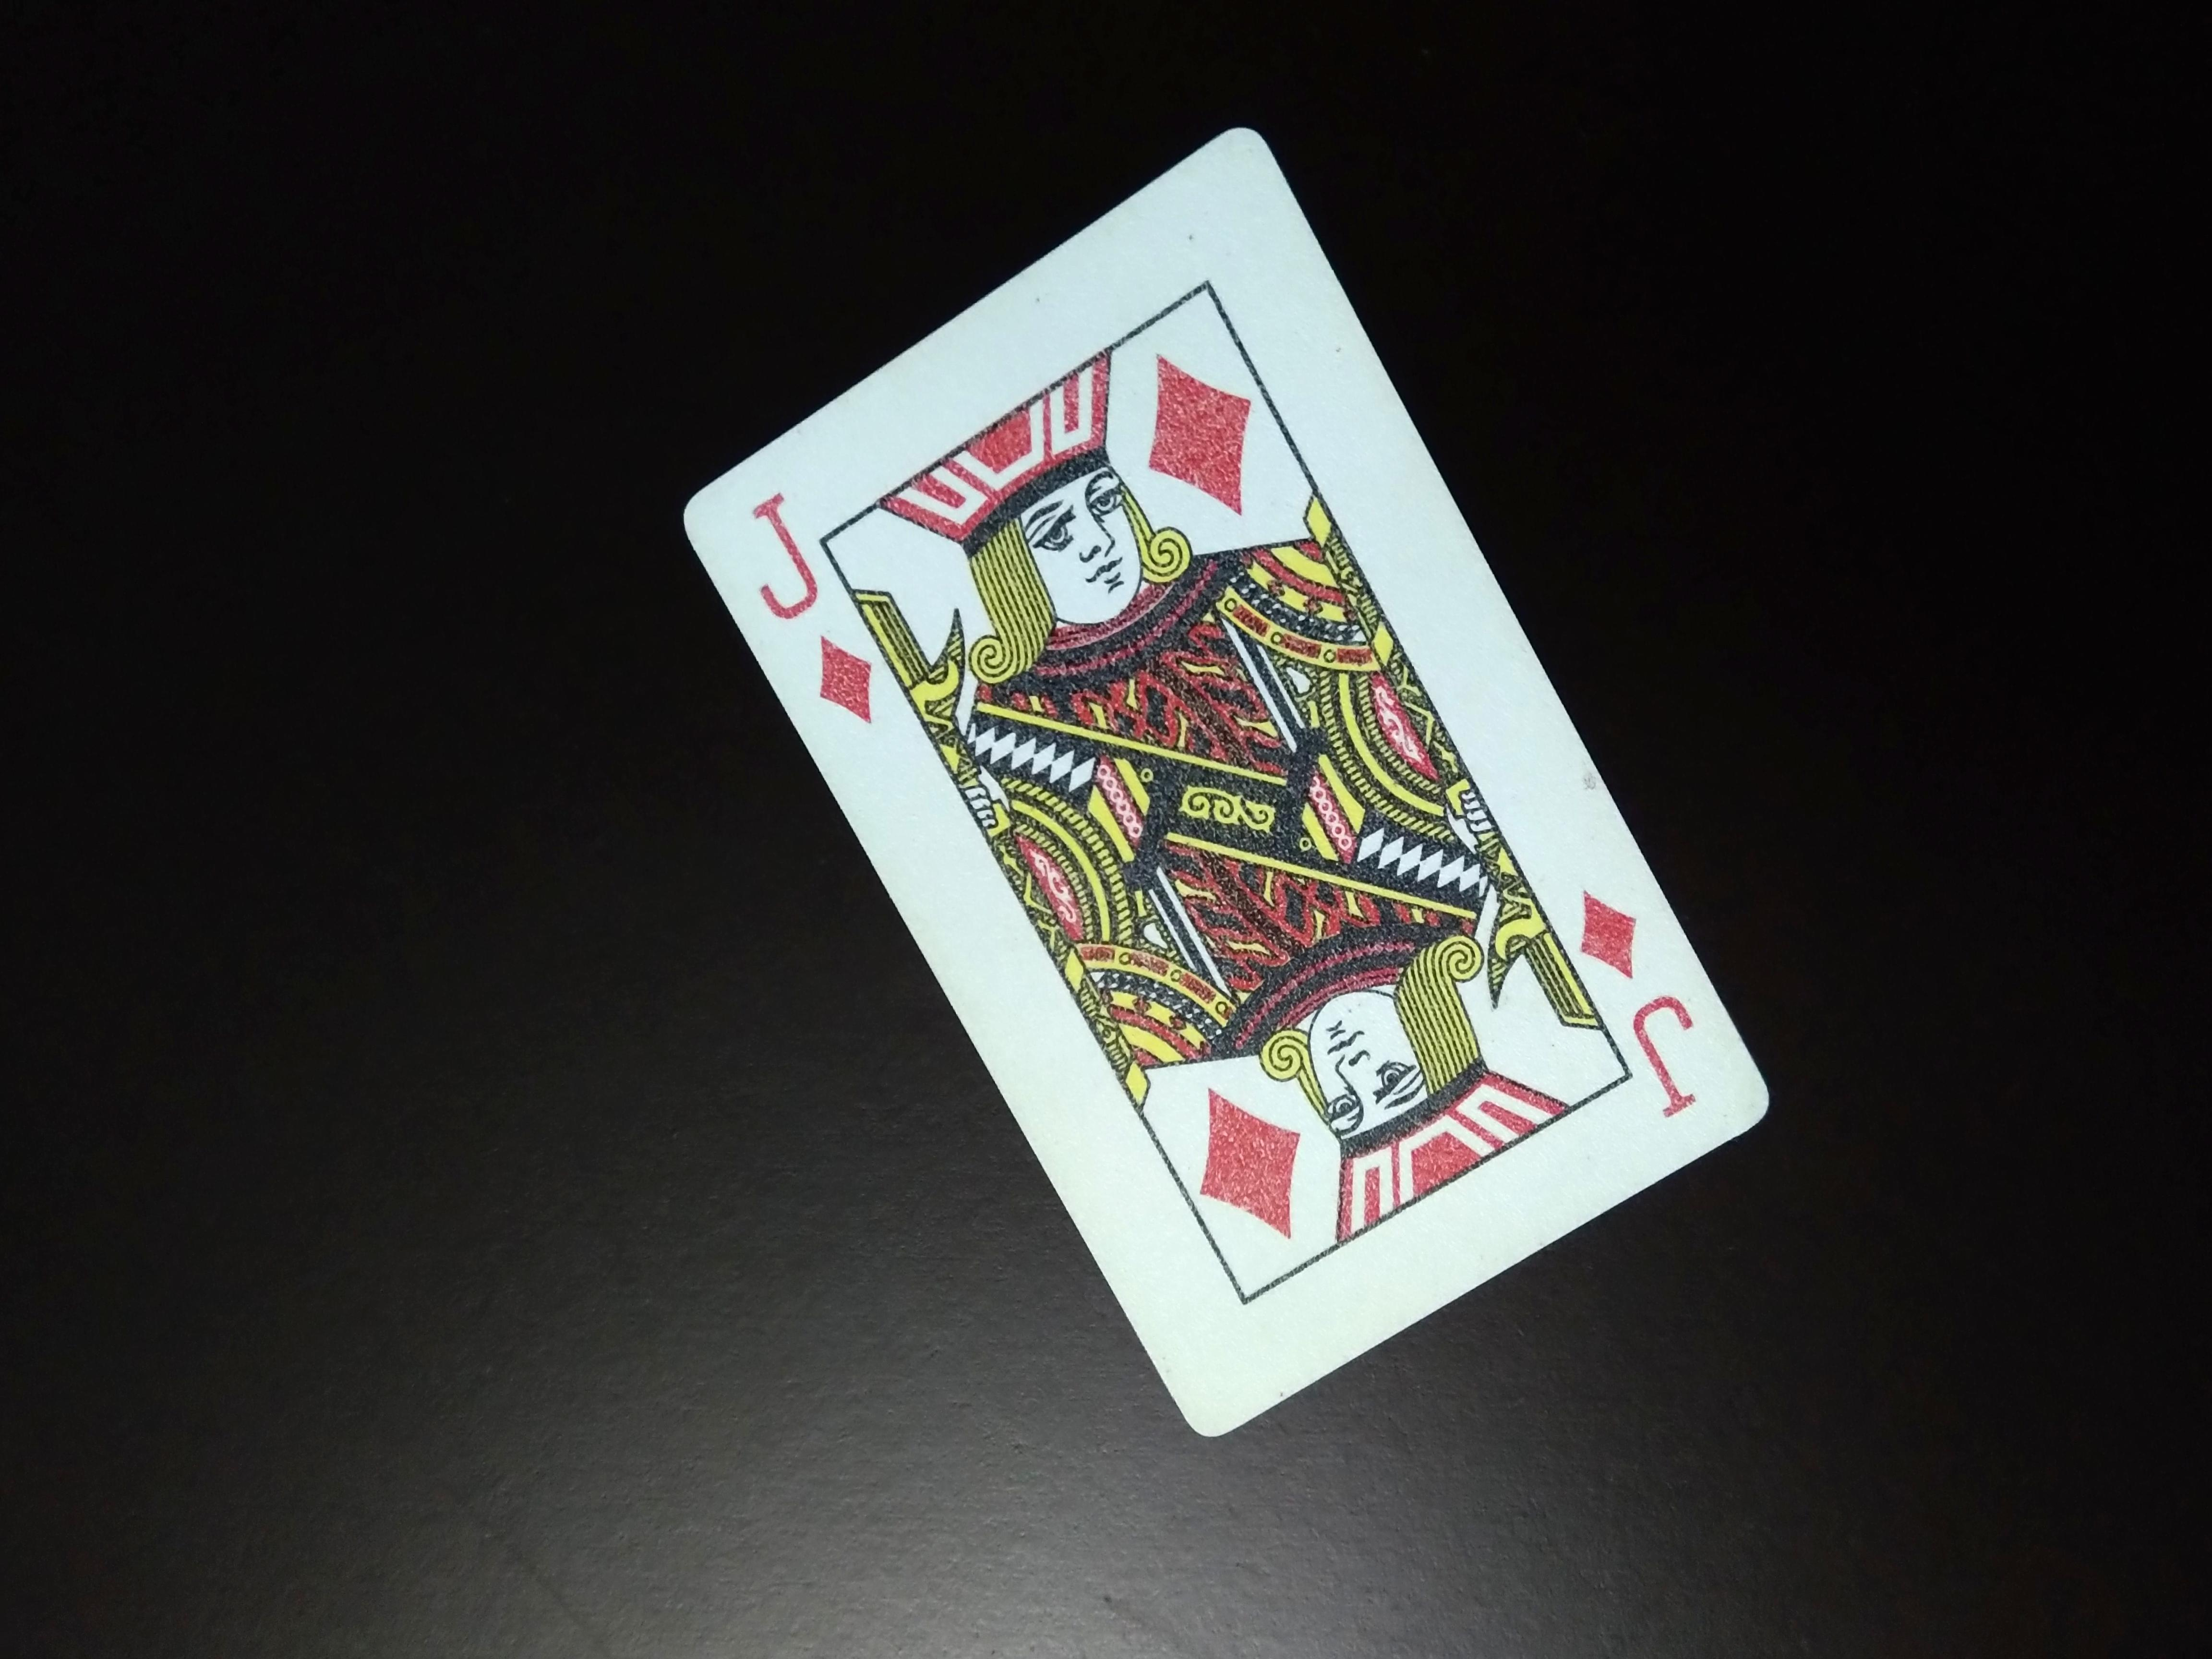JD: (742, 484, 871, 756)
